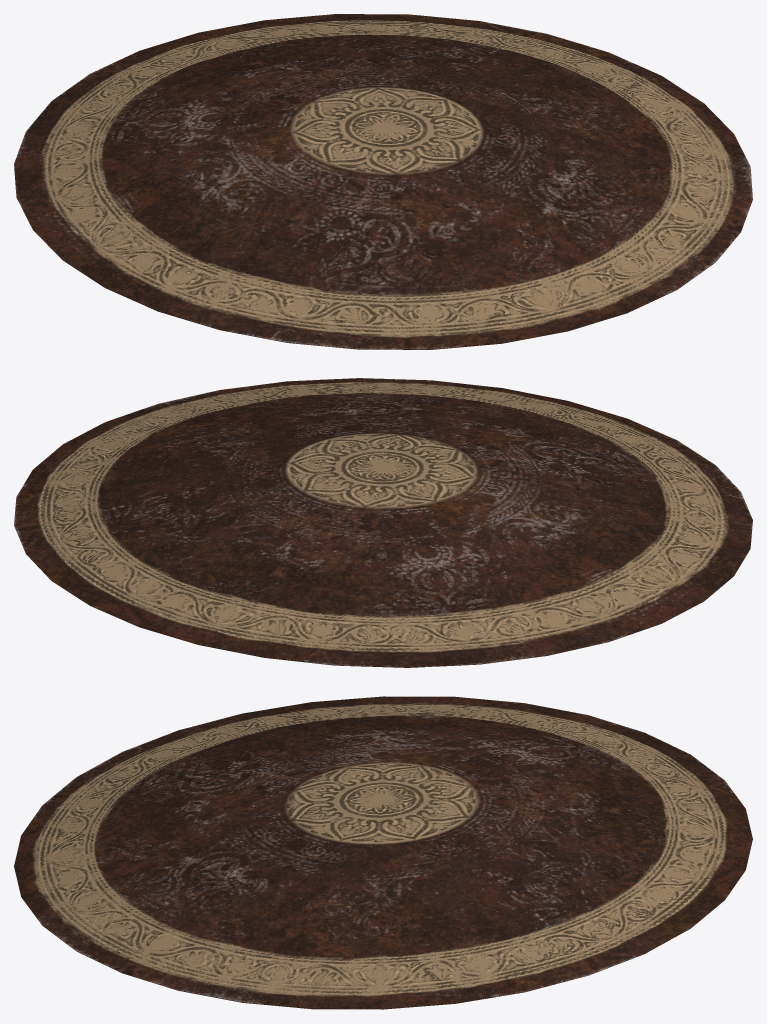
The model's file is indian_shield.fbx.
3 renders of one model, top to bottom at view 1: azimuth 30°, elevation 25°; view 2: azimuth 150°, elevation 25°; view 3: azimuth 270°, elevation 25°, orthographic.
Parts seen in each view (by area): view 1: Shield_Low; view 2: Shield_Low; view 3: Shield_Low.
Part boxes in pixels (x1=…): Shield_Low: x1=14, y1=14, x2=752, y2=349; Shield_Low: x1=14, y1=378, x2=752, y2=667; Shield_Low: x1=14, y1=696, x2=752, y2=1009.
Size of the model in its own units: 514 by 53.33 by 514.
Materials: 1 (1 with a texture image).
